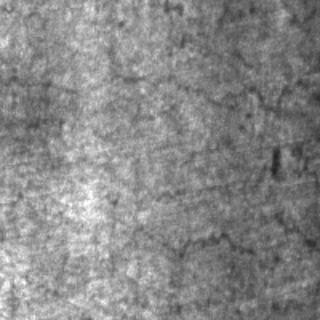crazing: (0, 74, 318, 156), (138, 160, 318, 268), (162, 0, 318, 68)
